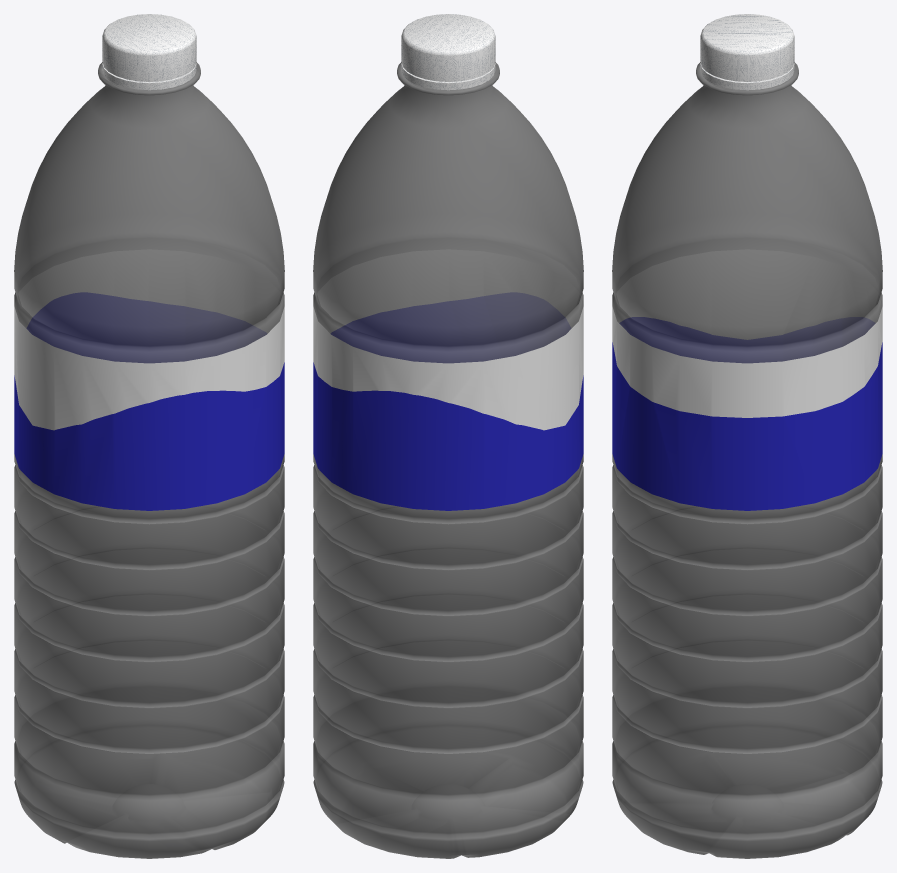
3 views of the same model, side by side, from view 1: azimuth 30°, elevation 25°; view 2: azimuth 150°, elevation 25°; view 3: azimuth 270°, elevation 25° (orthographic).
Visible parts, largest first — view 1: SketchUp (×7); view 2: SketchUp (×7); view 3: SketchUp (×7).
Part boxes in pixels (<box>): SketchUp (×7): <box>14,14,284,858</box>; SketchUp (×7): <box>313,14,583,858</box>; SketchUp (×7): <box>612,14,882,858</box>.
Bounding box in the file's own units: 3.23 × 3.23 × 10.22.
